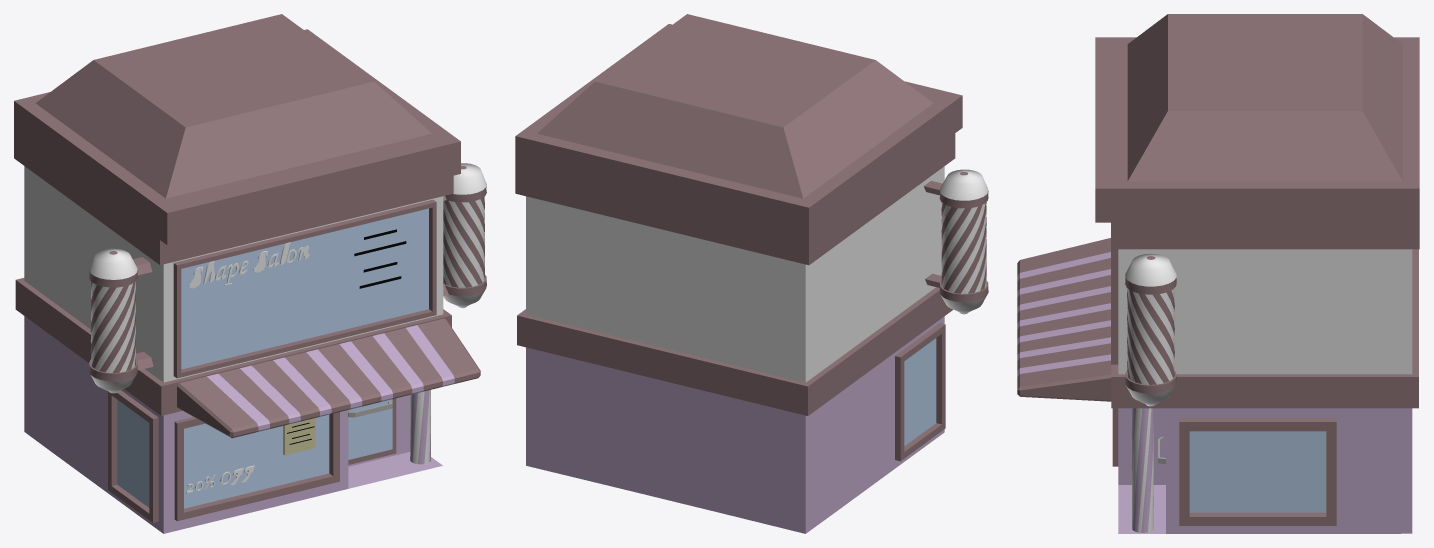
File: Salon.fbx
3 renders of one model, left to right at view 1: azimuth 30°, elevation 25°; view 2: azimuth 150°, elevation 25°; view 3: azimuth 270°, elevation 25°, orthographic. The views are drawn at different scales.
Parts seen in each view (by area): view 1: pCube372, pCube375, pCylinder31, pCylinder30, typeMesh3, pCube376, Bar_04; view 2: pCube372, pCylinder31; view 3: pCube372, pCube375, pCylinder31, pCylinder30.
Part boxes in pixels (box(x1,y1,x2,y2)): pCube372: box(14, 14, 460, 533); pCube375: box(177, 318, 480, 438); pCylinder31: box(89, 163, 486, 393); pCylinder30: box(410, 390, 430, 464); typeMesh3: box(188, 242, 309, 288); pCube376: box(283, 418, 315, 455); Bar_04: box(354, 229, 406, 288); pCube372: box(515, 14, 962, 533); pCylinder31: box(923, 169, 988, 314); pCube372: box(1095, 14, 1419, 533); pCube375: box(1017, 238, 1111, 401); pCylinder31: box(1125, 253, 1176, 406); pCylinder30: box(1131, 408, 1153, 532).
Size of the model in its own units: 230 by 213 by 194.
